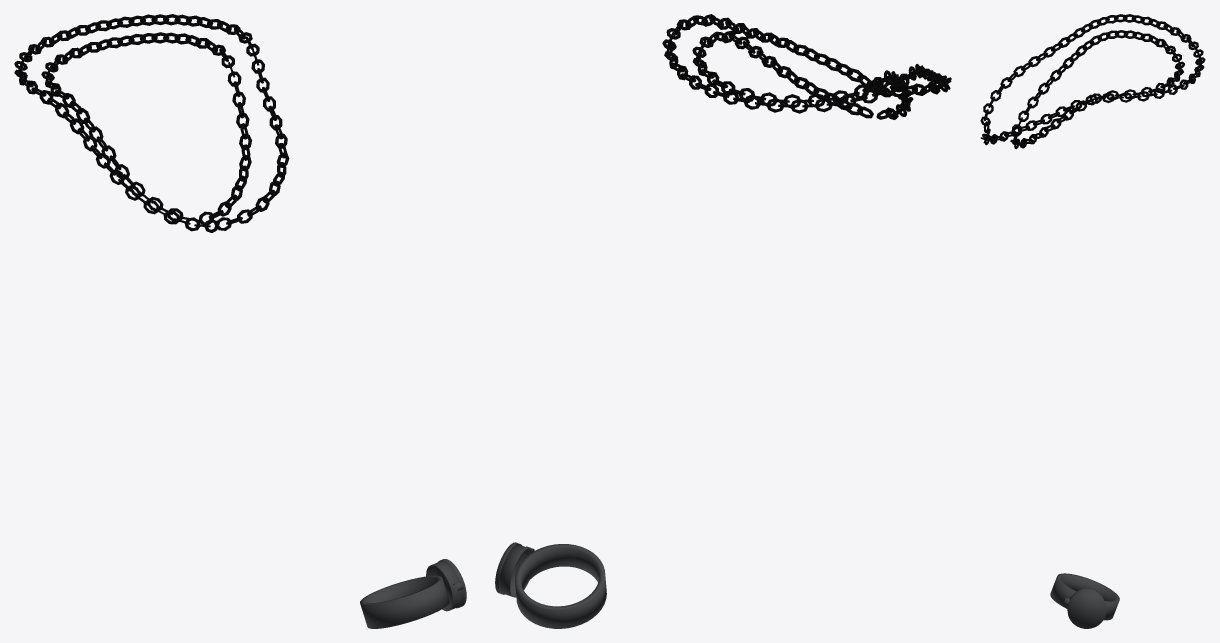
The model's file is Exit6_Jewelry.glb.
3 renders of one model, left to right at view 1: azimuth 30°, elevation 25°; view 2: azimuth 150°, elevation 25°; view 3: azimuth 270°, elevation 25°, orthographic. The views are drawn at different scales.
Parts seen in each view (by area): view 1: Exit6_Chain_Over, Exit6_Chain, Exit6_Watch; view 2: Exit6_Chain_Over, Exit6_Watch, Exit6_Chain; view 3: Exit6_Chain_Over, Exit6_Chain, Exit6_Watch.
Boxes of the visible parts, left/top/right/bottom form: Exit6_Chain_Over: left=14, top=14, right=289, bottom=232; Exit6_Chain: left=41, top=32, right=251, bottom=224; Exit6_Watch: left=360, top=559, right=466, bottom=628; Exit6_Chain_Over: left=662, top=14, right=951, bottom=113; Exit6_Watch: left=495, top=542, right=606, bottom=628; Exit6_Chain: left=692, top=30, right=913, bottom=119; Exit6_Chain_Over: left=980, top=14, right=1205, bottom=145; Exit6_Chain: left=1010, top=30, right=1184, bottom=148; Exit6_Watch: left=1050, top=573, right=1119, bottom=628.
Bounding box in the file's own units: 1.38 × 1.99 × 0.8595.
3 materials, 3 textured.
